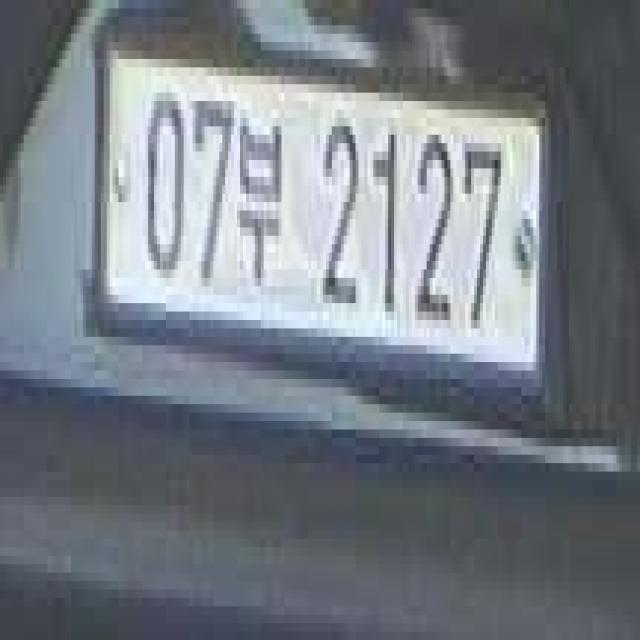illegal_plate: (93, 35, 549, 408)
